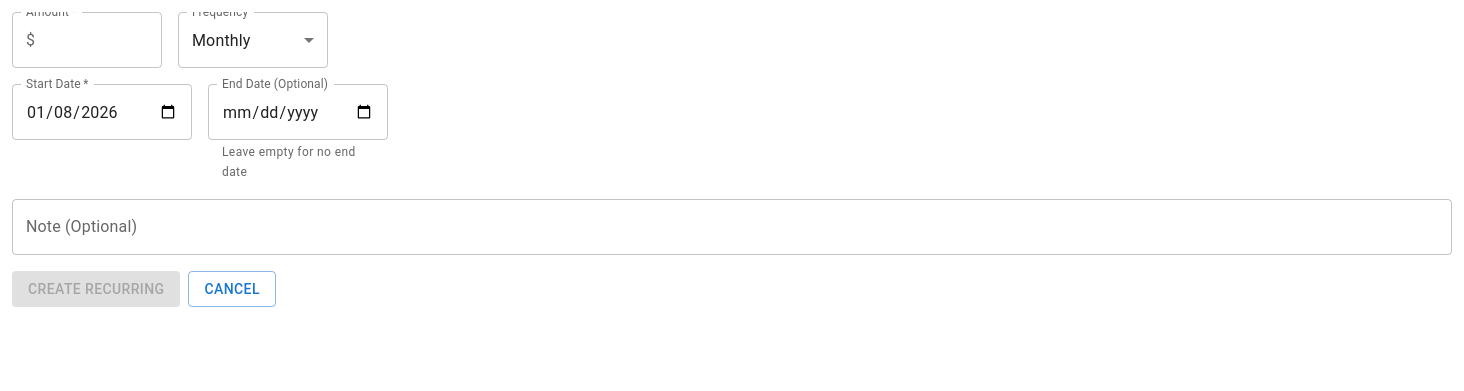
Test: RecurringContributionForm › validates amount must be greater than 0
In the number field labelled "Amount *": (103, 40) [43, 12, 162, 68], type "0"
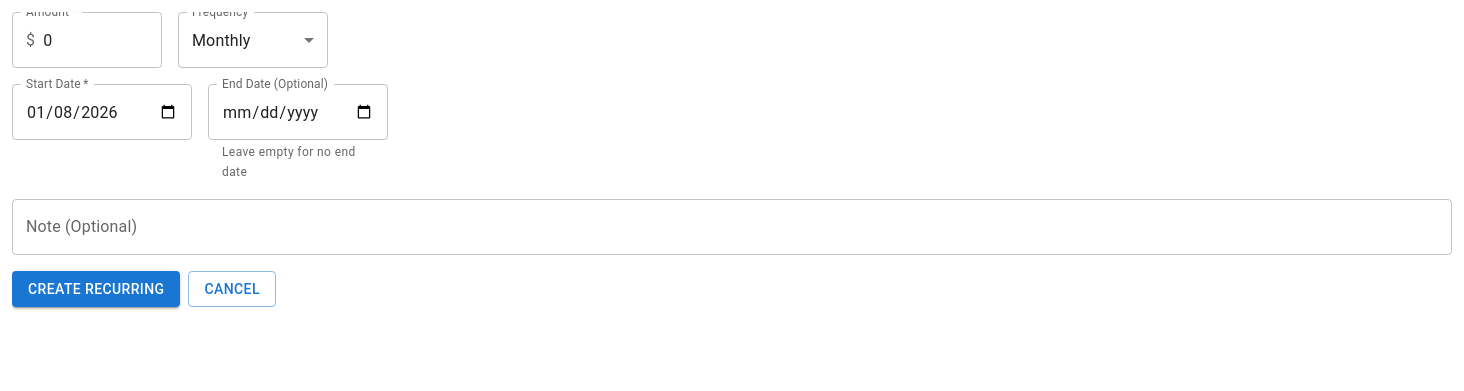
Click the button "Create Recurring": (96, 289) [12, 271, 180, 307]
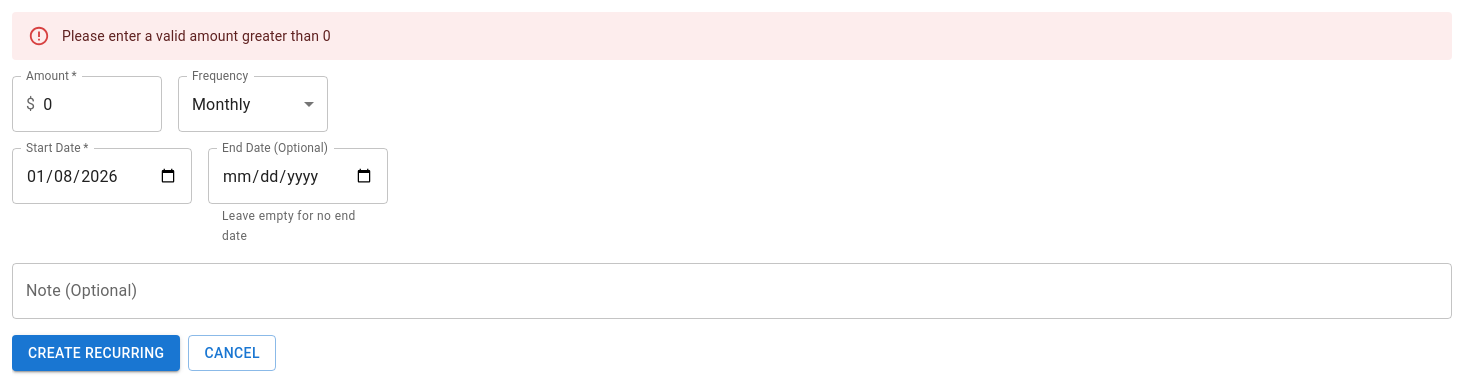
expect the text "Please enter a valid amount greater than 0" is shown: met, box [62, 28, 331, 44]
